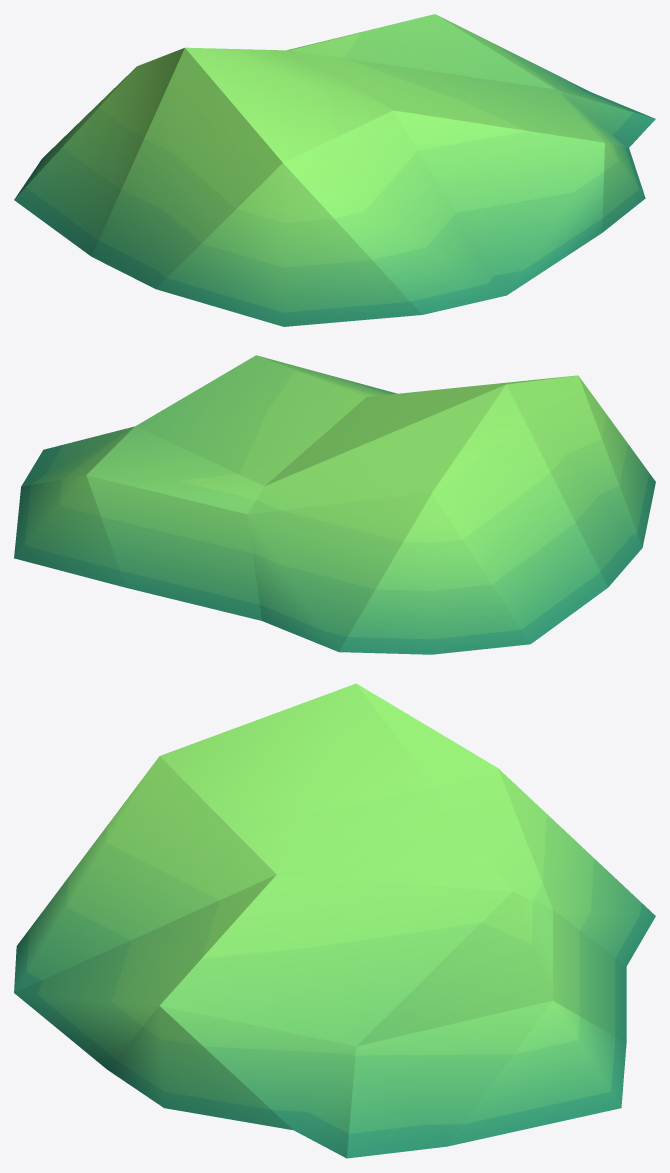
File: terrain_5.fbx
3 views of the same model, one above another, from view 1: azimuth 30°, elevation 25°; view 2: azimuth 150°, elevation 25°; view 3: azimuth 270°, elevation 25° (orthographic). The views are drawn at different scales.
Parts seen in each view (by area): view 1: pPlane43; view 2: pPlane43; view 3: pPlane43.
Part boxes in pixels (<box>): pPlane43: <box>14,14,655,326</box>; pPlane43: <box>14,355,655,654</box>; pPlane43: <box>14,683,655,1158</box>.
Size of the model in its own units: 334 by 103 by 284.
